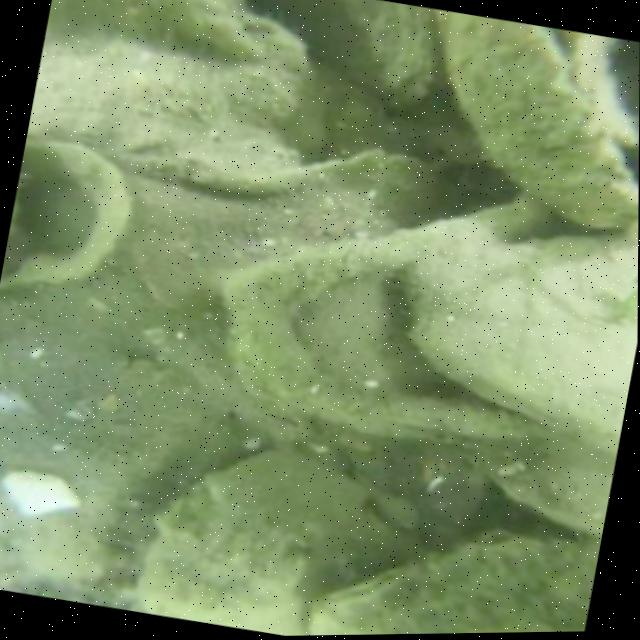Oyster-Indeterminate: (219, 195, 620, 438), (399, 223, 638, 454), (141, 450, 382, 636), (309, 540, 594, 635), (0, 439, 126, 590), (264, 0, 436, 109), (79, 0, 263, 61)
Oyster-Open: (441, 14, 640, 233)
